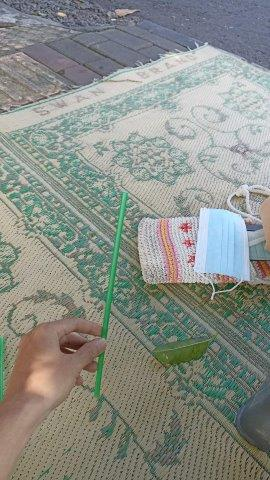sedotan: (95, 192, 127, 395)
